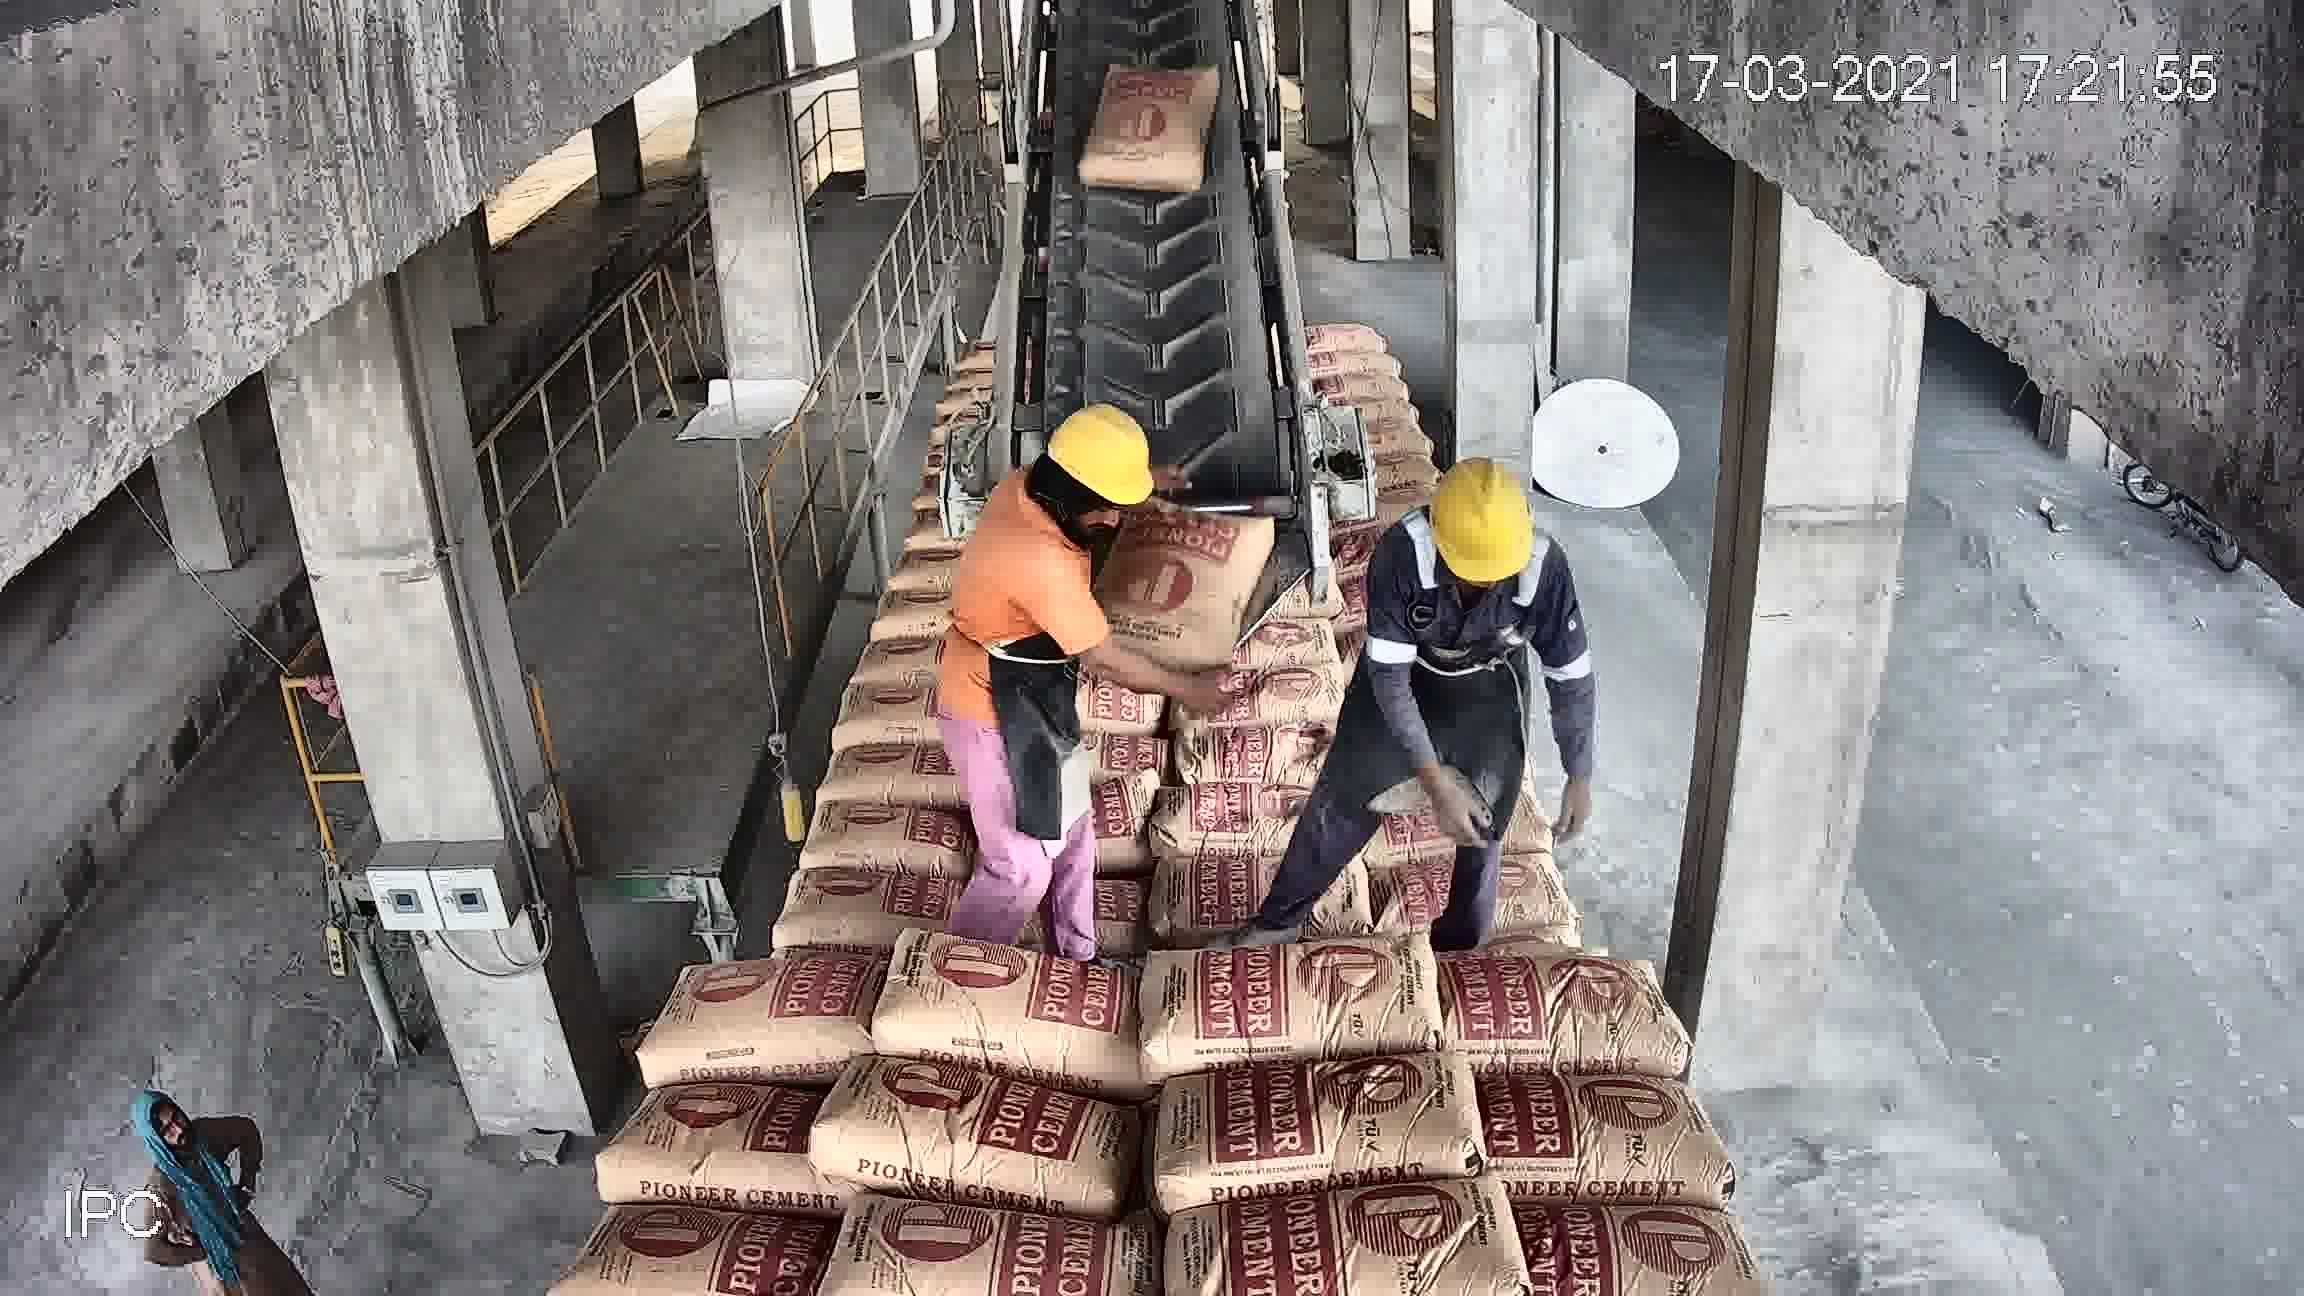bag_h: (1141, 1036, 1491, 1204), (1161, 1154, 1548, 1291), (1150, 919, 1438, 1073), (807, 1082, 1146, 1203), (1160, 828, 1434, 953), (1481, 1074, 1742, 1204), (1114, 722, 1394, 840), (563, 1074, 809, 1207), (864, 953, 1150, 1060), (649, 962, 885, 1090), (540, 1203, 840, 1296), (880, 859, 1149, 953), (812, 1218, 1149, 1293), (1418, 851, 1635, 965), (1446, 965, 1677, 1070), (1510, 1214, 1772, 1290), (907, 756, 1124, 847), (1377, 764, 1589, 856), (673, 877, 873, 967), (718, 794, 889, 866), (1166, 604, 1326, 669), (1016, 668, 1169, 731), (986, 619, 1166, 673), (1013, 574, 1188, 627), (1188, 560, 1324, 622), (1211, 505, 1328, 568), (1161, 669, 1296, 722), (896, 506, 1044, 551), (923, 538, 1036, 589), (883, 470, 1029, 506), (1052, 533, 1169, 578)
belt: (1021, 14, 1294, 506)
